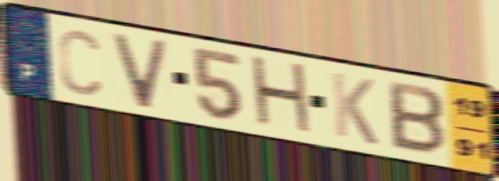5: (189, 43, 245, 124)
B: (387, 77, 448, 158)
C: (56, 26, 104, 98)
H: (247, 52, 316, 141)
K: (329, 69, 381, 149)
V: (109, 30, 171, 112)
